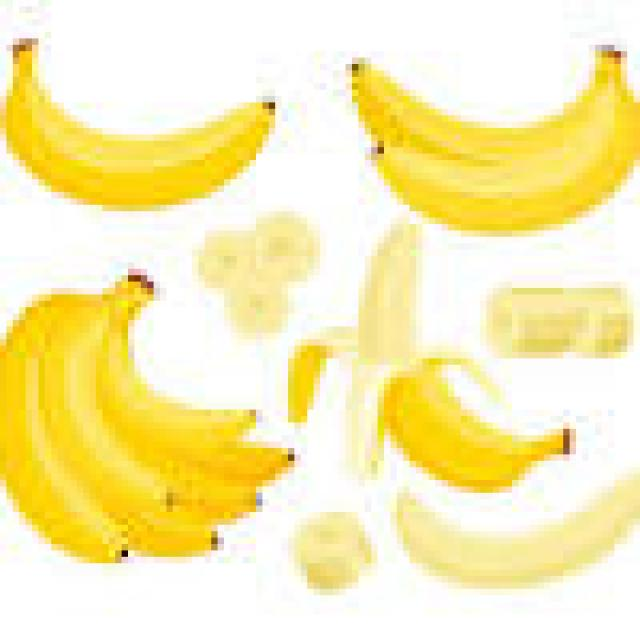Banana: (5, 41, 274, 207)
